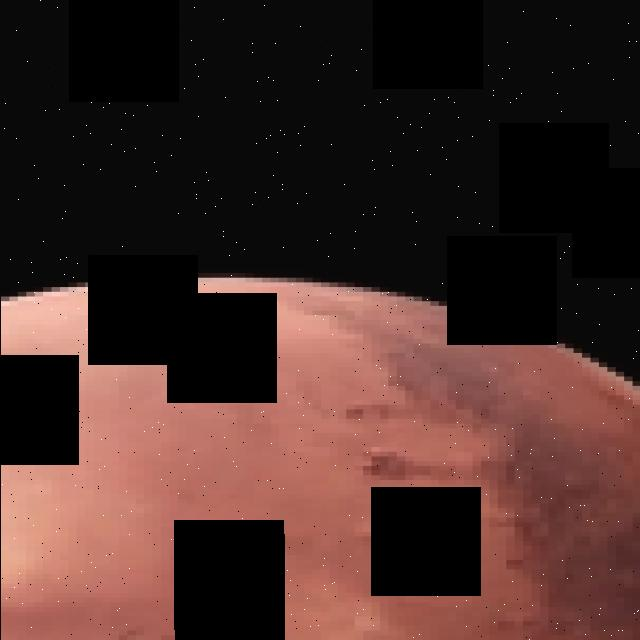Mars: (0, 268, 640, 640)
